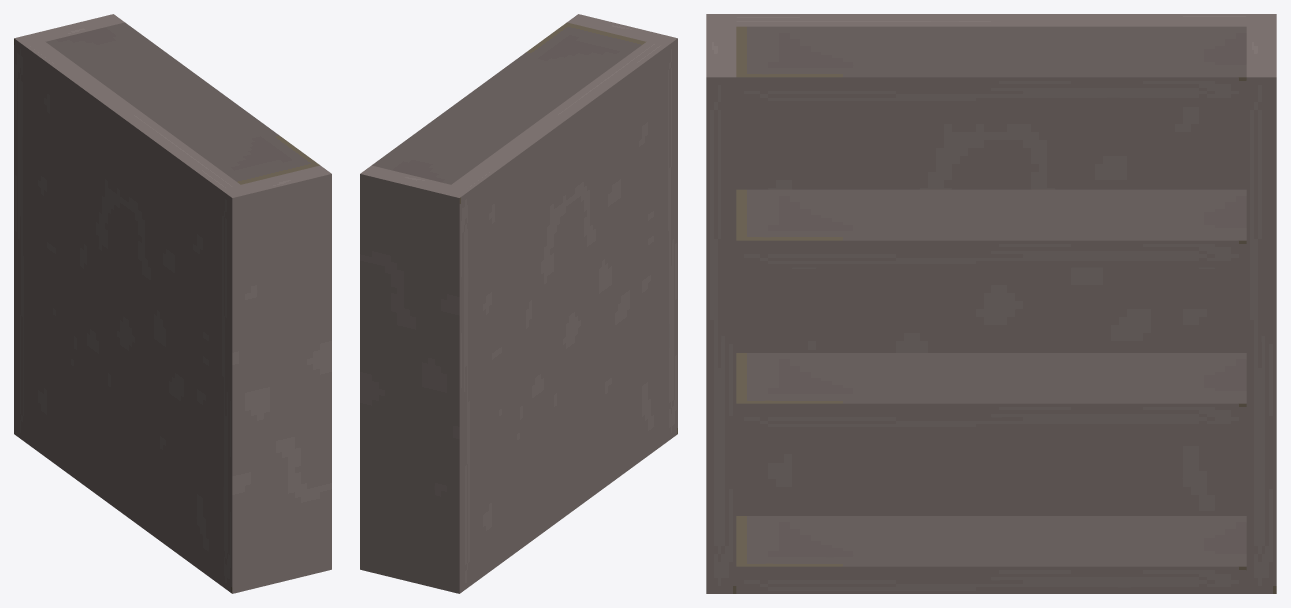
Rendered from shelf.glb.
3 views of the same model, side by side, from view 1: azimuth 30°, elevation 25°; view 2: azimuth 150°, elevation 25°; view 3: azimuth 270°, elevation 25° (orthographic). The views are drawn at different scales.
Visible parts, largest first — view 1: Mesh_0.032; view 2: Mesh_0.032; view 3: Mesh_0.032.
Boxes of the visible parts, box(x1,y1,x2,y2) form: Mesh_0.032: box(14, 14, 331, 593); Mesh_0.032: box(360, 14, 677, 593); Mesh_0.032: box(706, 14, 1276, 593).
Bounding box in the file's own units: 1.25 × 4.75 × 4.75.
Materials: 1 (1 with a texture image).
